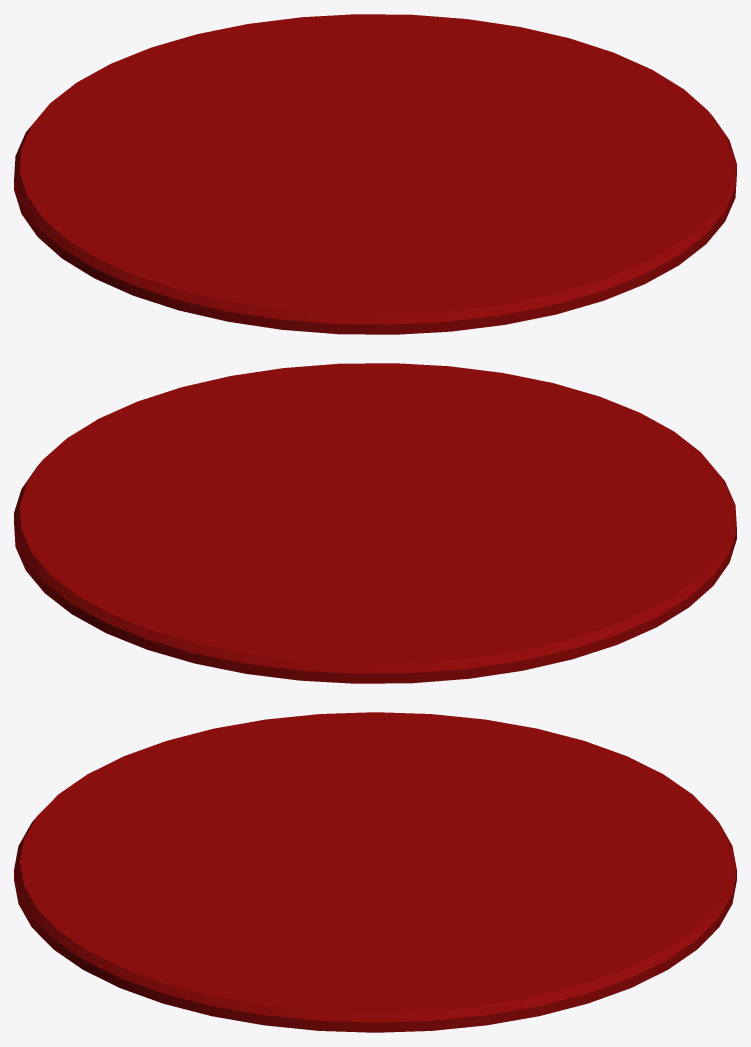
The picture shows the model from 3 angles, top to bottom: view 1: azimuth 30°, elevation 25°; view 2: azimuth 150°, elevation 25°; view 3: azimuth 270°, elevation 25°; orthographic projection.
Parts seen in each view (by area): view 1: plane; view 2: plane; view 3: plane.
Part boxes in pixels (x1,y1,x2,y2): plane: (14,14,736,334); plane: (14,363,736,683); plane: (14,712,736,1032).
Bounding box in the file's own units: 549 × 14.7 × 549.
